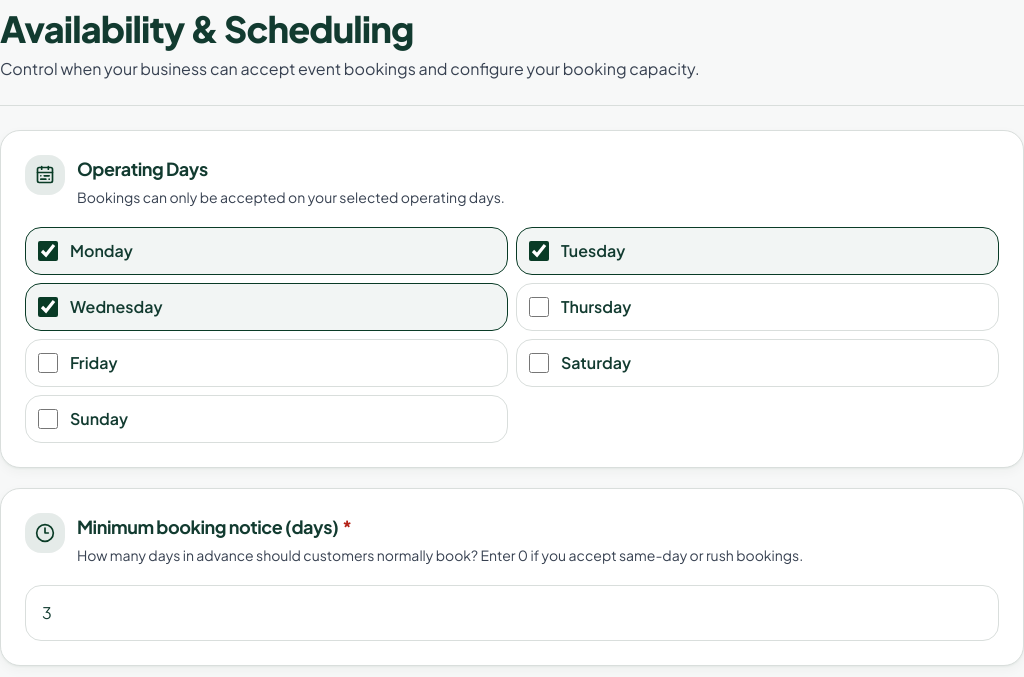
Test: provider availability workspace › preserves unsaved input and reports a safe settings error
Replace the text in the number field named "Minimum booking notice" with "9" at (512,613), box [25,585,999,641]
(page scrolled)
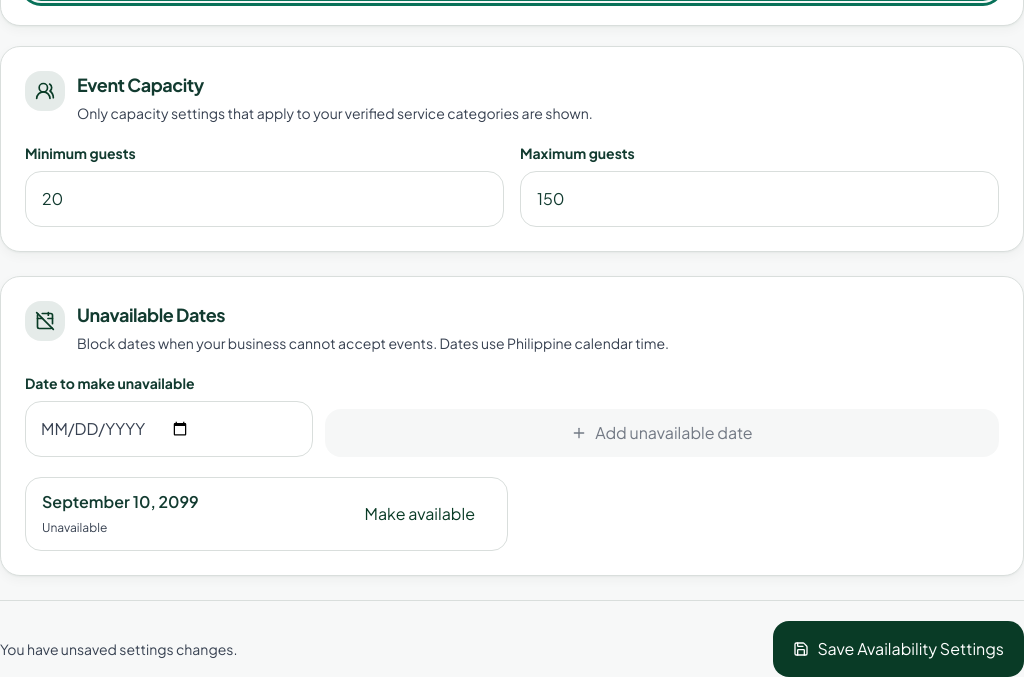
Click the button "Save Availability Settings" at (899,649), box [774,621,1023,676]
(page scrolled)
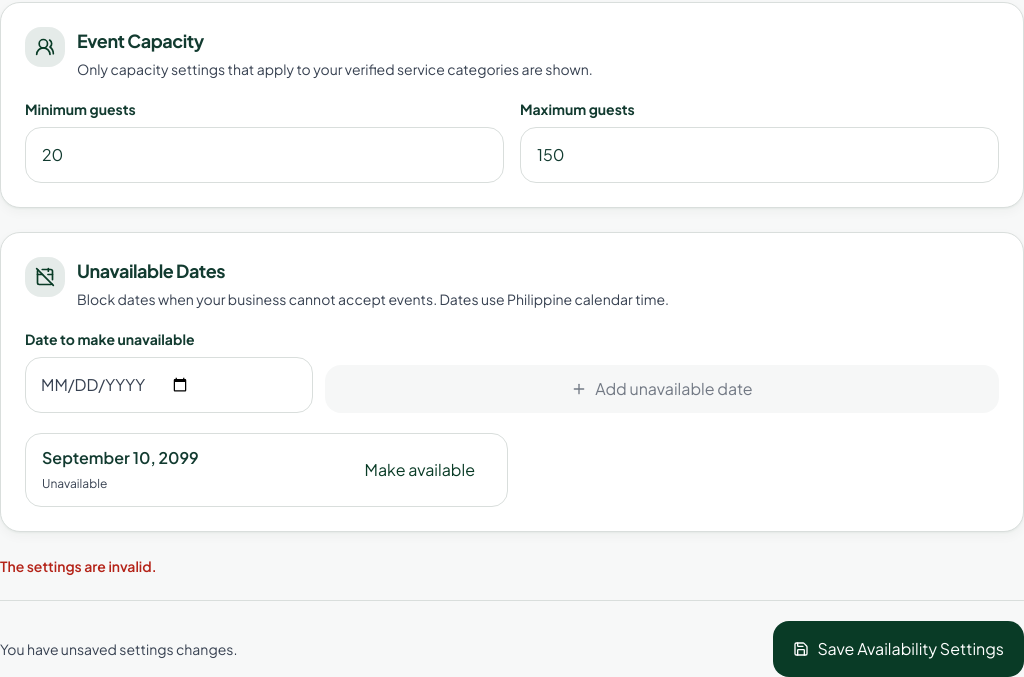
Result: the button "Save Availability Settings" is enabled at [774,621,1023,676]
Result: the message reads "The settings are invalid." at [0,557,156,575]
